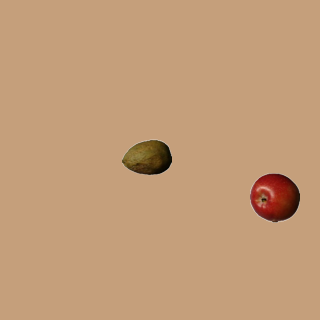Apple Braeburn: (249, 172, 299, 222)
Papaya: (121, 132, 171, 182)
